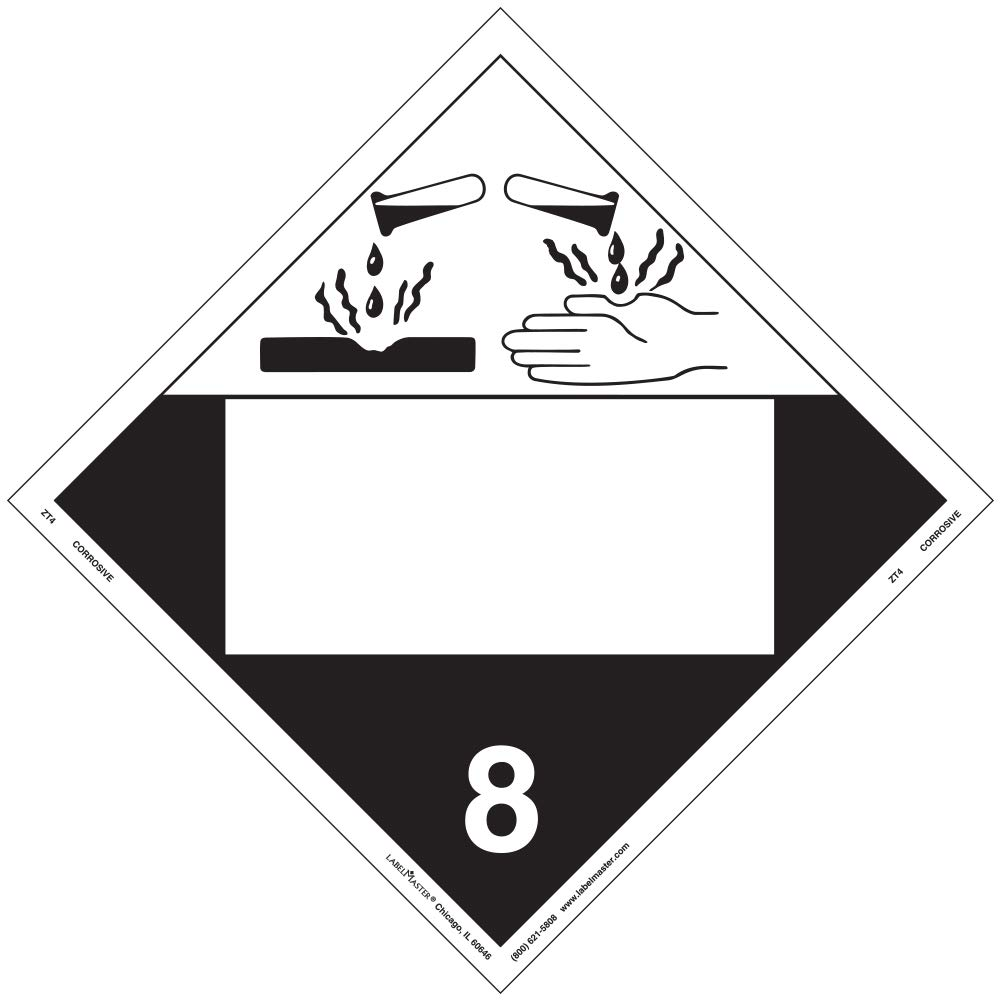Corrosive: (6, 5, 992, 996)
